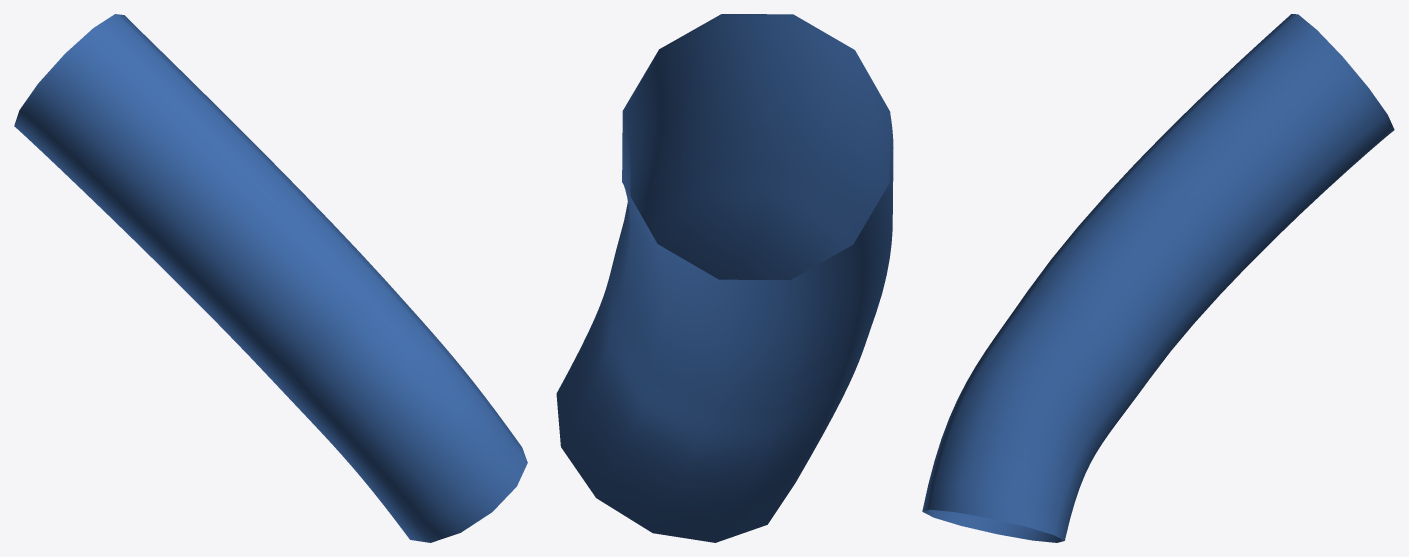
3 renders of one model, left to right at view 1: azimuth 30°, elevation 25°; view 2: azimuth 150°, elevation 25°; view 3: azimuth 270°, elevation 25°, orthographic. The views are drawn at different scales.
Visible parts, largest first — view 1: 左侧面总静脉; view 2: 左侧面总静脉; view 3: 左侧面总静脉.
Part boxes in pixels (bbox=[...]): 左侧面总静脉: bbox=[14, 14, 527, 542]; 左侧面总静脉: bbox=[556, 14, 893, 542]; 左侧面总静脉: bbox=[922, 14, 1394, 542].
Bounding box in the file's own units: 0.0102 × 0.0127 × 0.0124.
